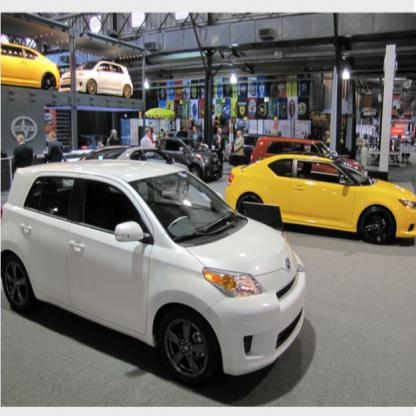Vehicle: (1, 160, 307, 393)
